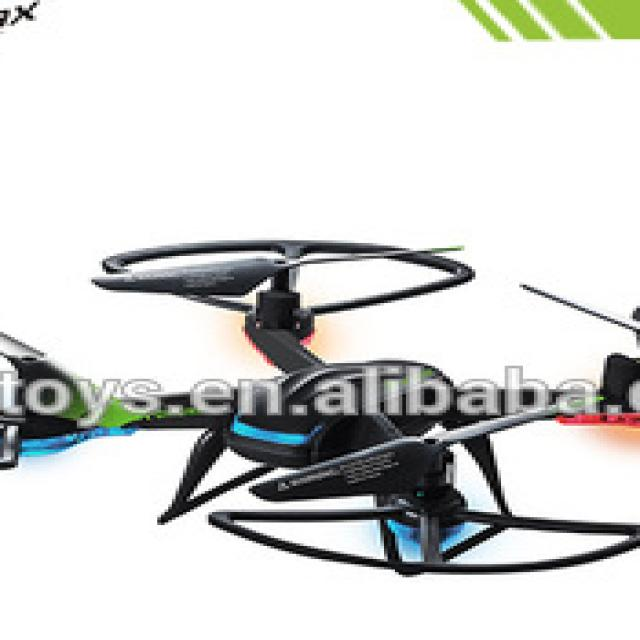drone: (0, 183, 640, 611)
